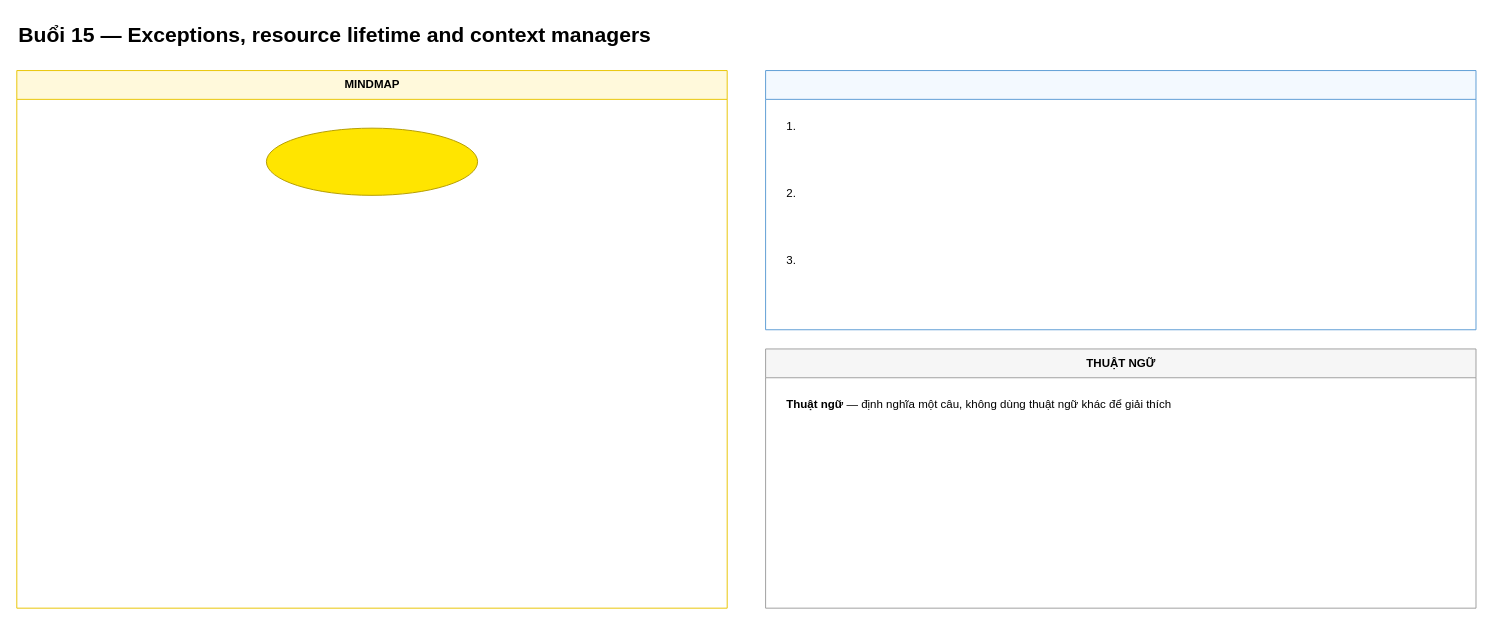
The diagram is 1493 pixels wide and 625 high, and some of its shapes have lost their labels. The box of each missing label's shape, as (x1, y1, x2, y2) in pixels:
Exceptions, resource lifetime and context managers: (265, 127, 478, 195)
KEY TAKEAWAY — ba điều phải nhớ: (765, 70, 1476, 330)
